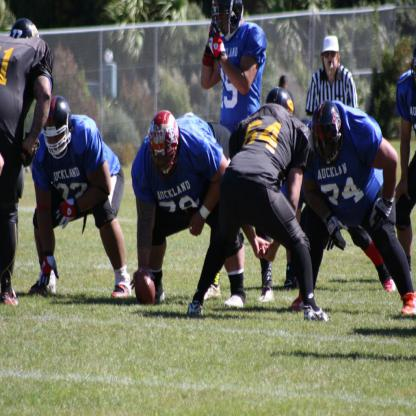face: (46, 127, 67, 156), (318, 137, 338, 165), (154, 149, 174, 173), (216, 12, 232, 37), (323, 49, 338, 71), (282, 80, 290, 93)
